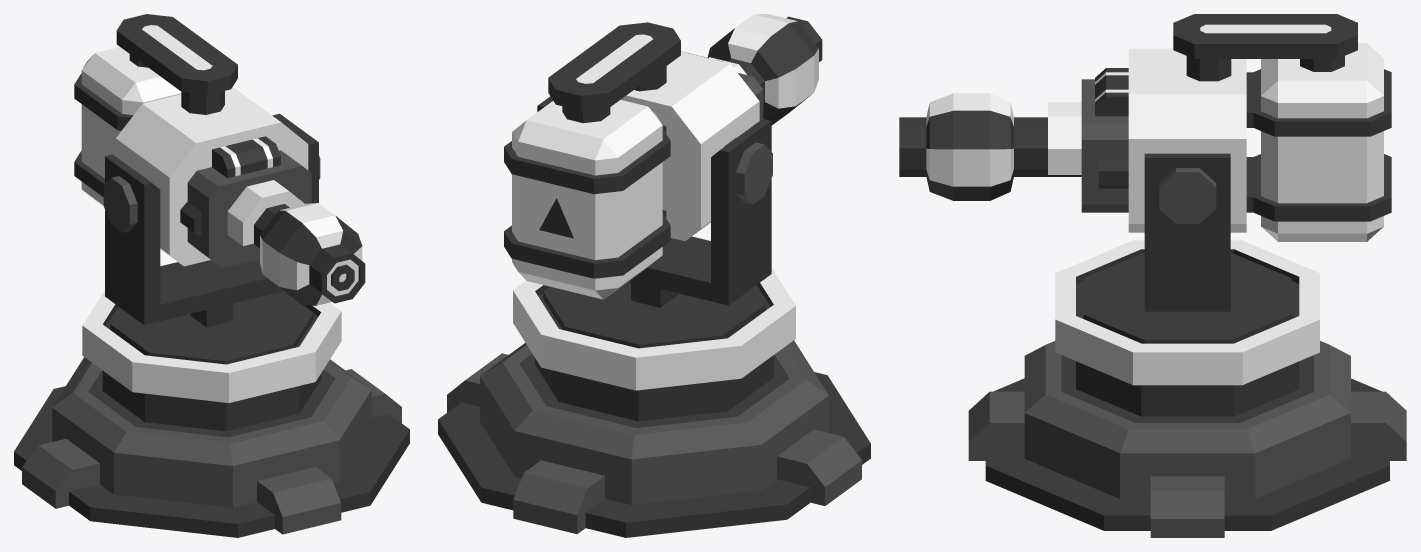
Rendered from Toxin_1.fbx.
3 renders of one model, left to right at view 1: azimuth 30°, elevation 25°; view 2: azimuth 150°, elevation 25°; view 3: azimuth 270°, elevation 25°, orthographic. The views are drawn at different scales.
Visible parts, largest first — view 1: Body_Mesh, Base_Mesh, Upper_Mesh; view 2: Body_Mesh, Base_Mesh, Upper_Mesh; view 3: Body_Mesh, Base_Mesh, Upper_Mesh.
Boxes of the visible parts, x1,y1,x2,y2 form: Body_Mesh: (74,14,365,305); Base_Mesh: (14,357,409,537); Upper_Mesh: (82,113,341,431); Body_Mesh: (504,14,822,299); Base_Mesh: (438,340,870,537); Upper_Mesh: (513,96,795,421); Body_Mesh: (899,14,1391,241); Base_Mesh: (968,341,1406,537); Upper_Mesh: (1055,153,1319,416).
Size of the model in its own units: 1.3 by 1.37 by 1.51.
